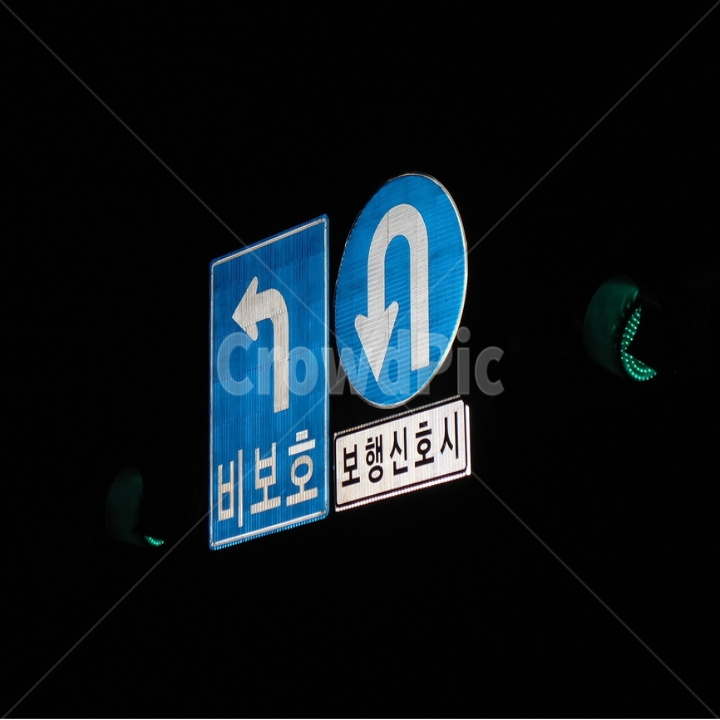left: (220, 263, 304, 418)
